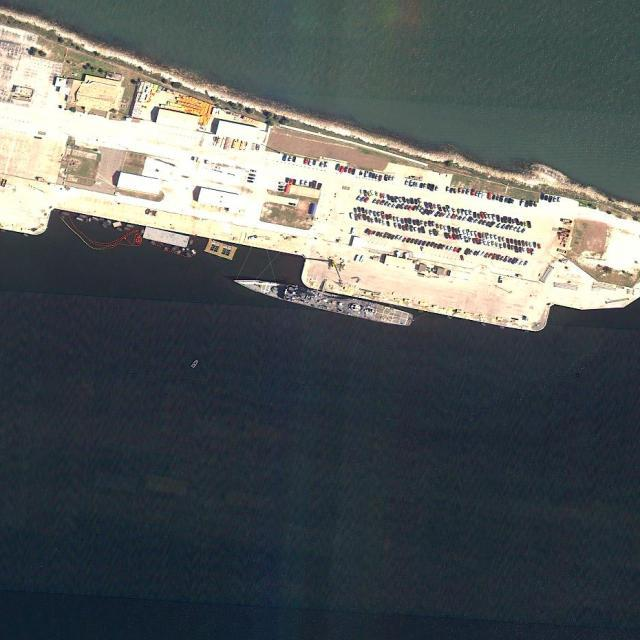Frigate: (230, 273, 413, 327)
